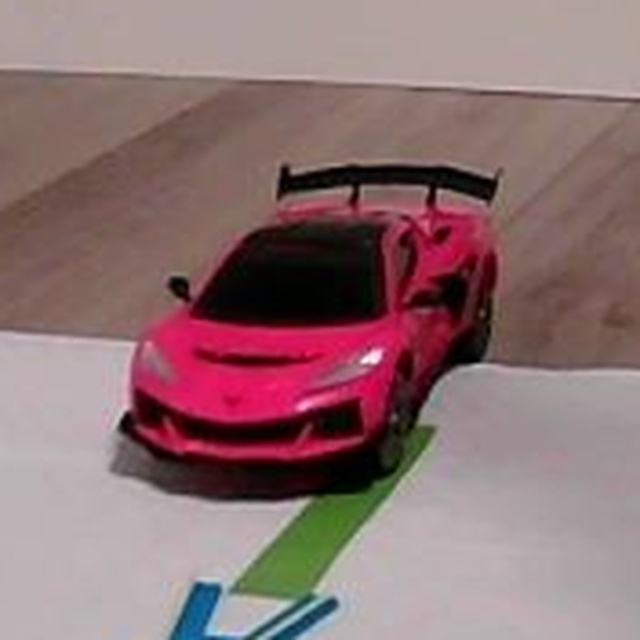tire_rear_driver: (455, 270, 490, 350)
